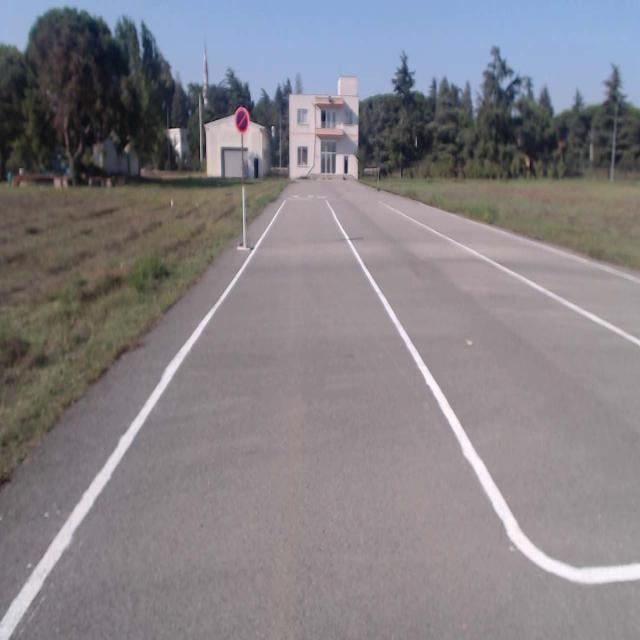parkyasak: (235, 108, 249, 134)
